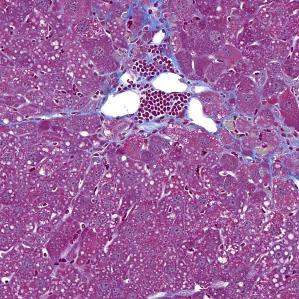fibrosis: (119, 41, 215, 131)
